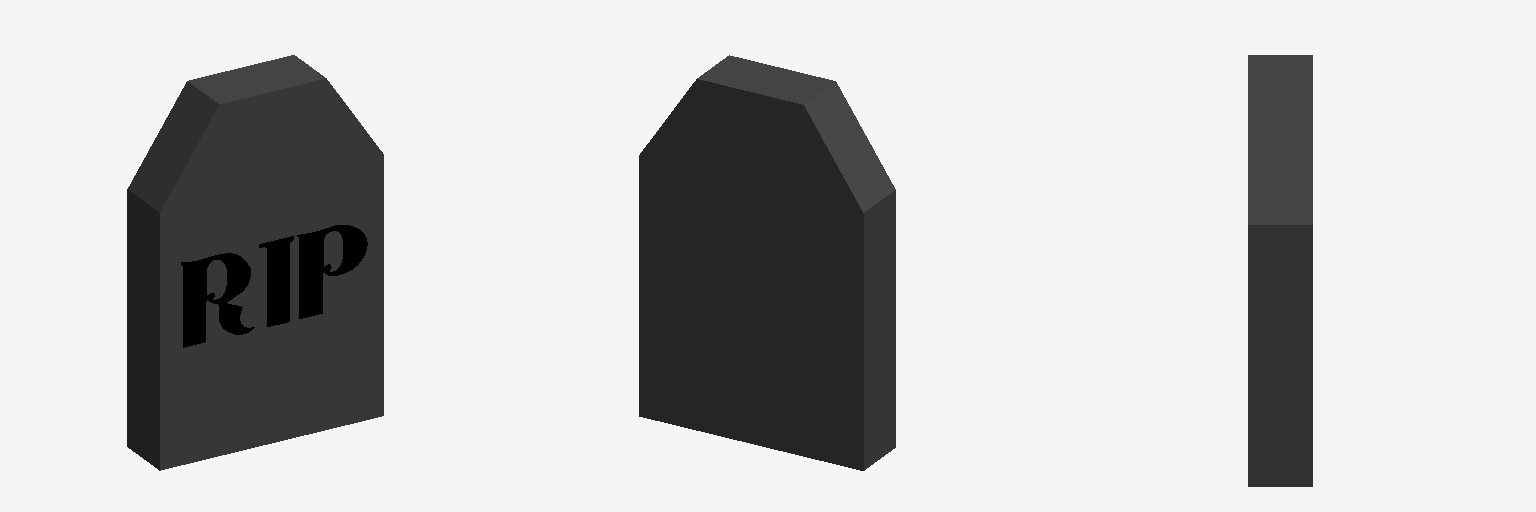
Rendered from grave.obj.
3 renders of one model, left to right at view 1: azimuth 30°, elevation 25°; view 2: azimuth 150°, elevation 25°; view 3: azimuth 270°, elevation 25°, orthographic.
Visible parts, largest first — view 1: Cube, Text; view 2: Cube; view 3: Cube.
Part boxes in pixels (x1,y1,x2,y2): Cube: (127,55,383,470); Text: (181,225,367,347); Cube: (639,55,895,470); Cube: (1248,55,1312,486).
Size of the model in its own units: 2 by 3 by 0.51.